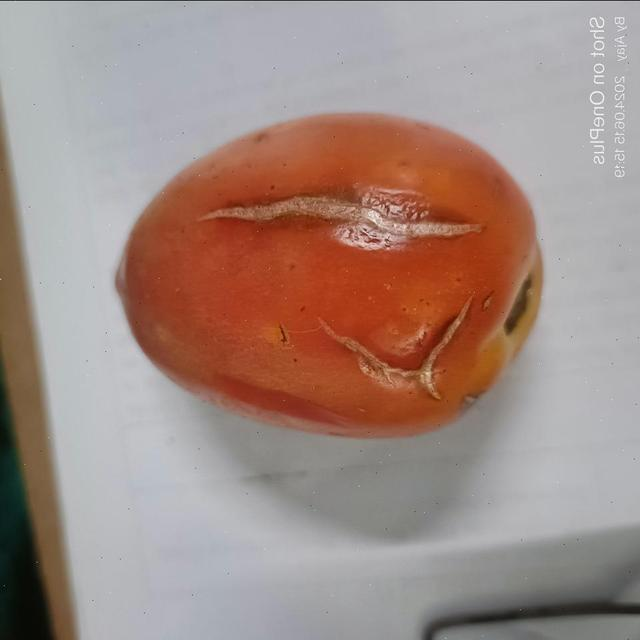Cracking Fruit: (210, 153, 325, 217)
